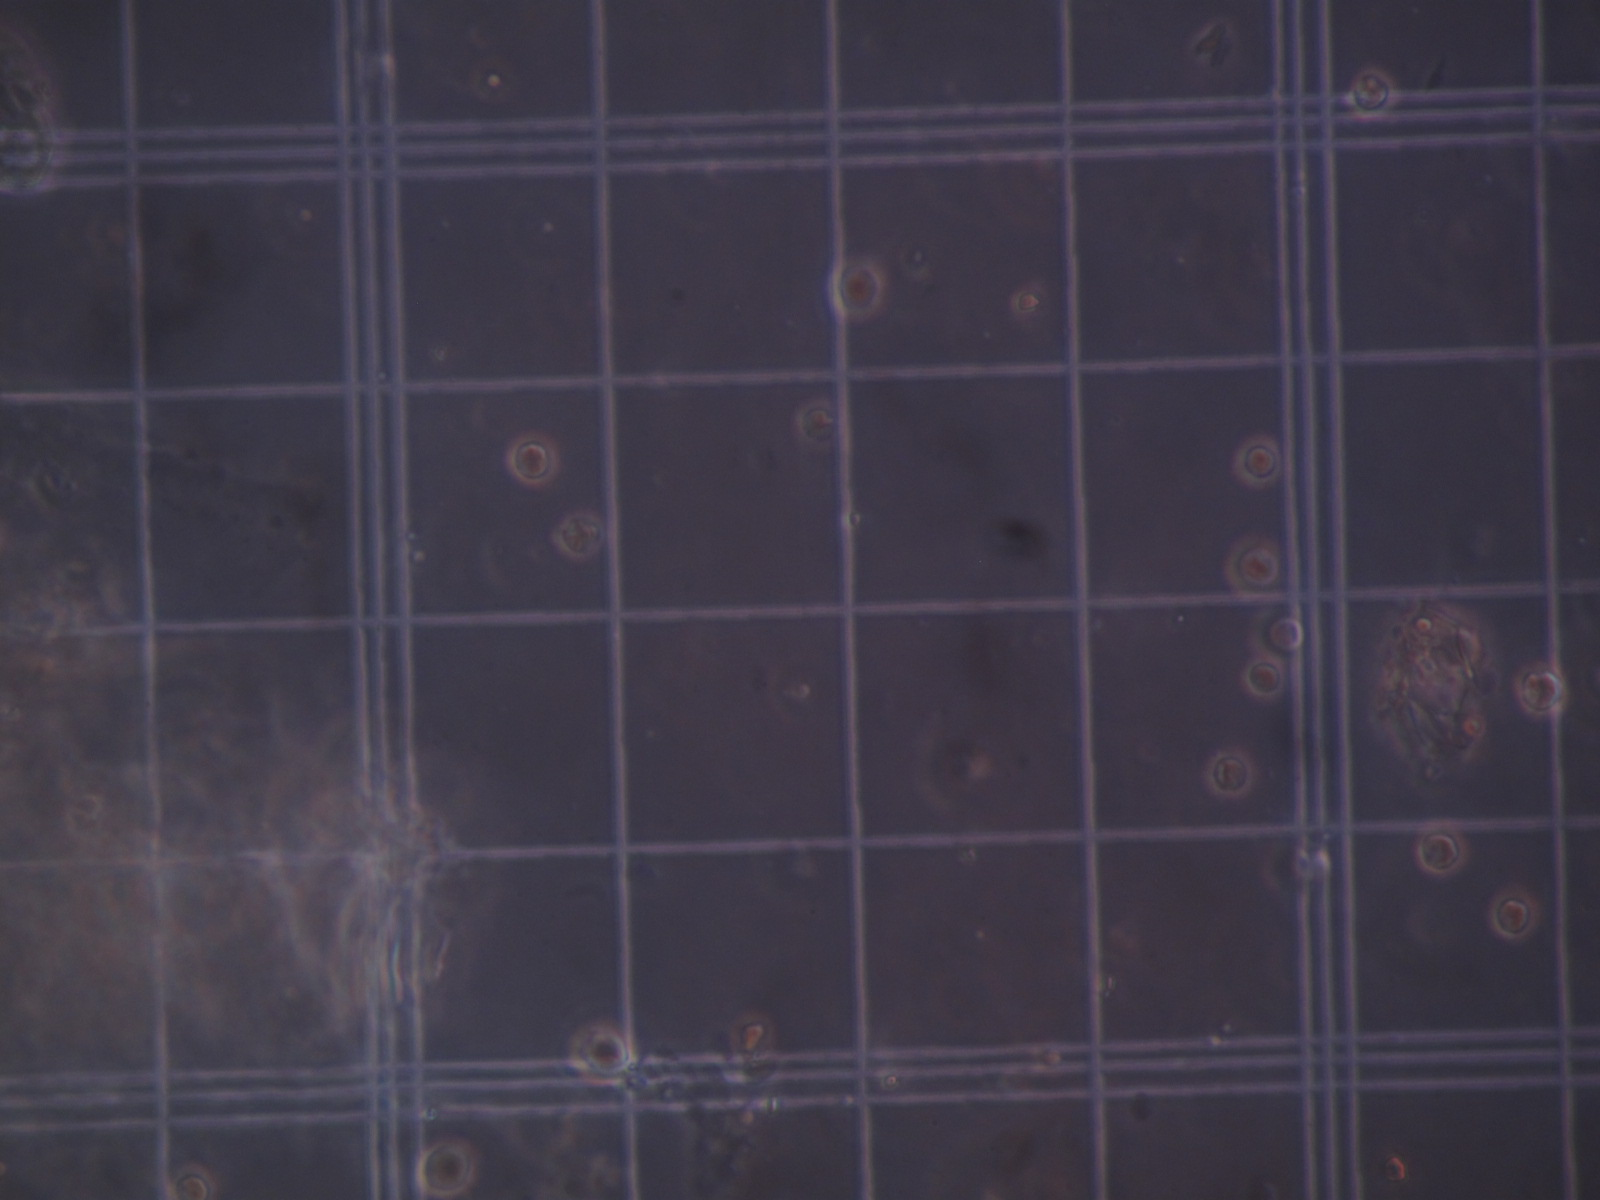hemo: (564, 1025, 632, 1087), (1225, 534, 1281, 603), (828, 258, 883, 319), (413, 1143, 476, 1194), (1249, 605, 1304, 662), (1431, 621, 1484, 676), (1344, 67, 1395, 118), (1516, 666, 1569, 713), (1202, 750, 1254, 798), (506, 434, 556, 483), (1233, 434, 1281, 484), (553, 511, 603, 558), (1419, 826, 1468, 874), (792, 396, 837, 447), (1492, 892, 1537, 942), (1245, 659, 1284, 698), (170, 1166, 214, 1200)
